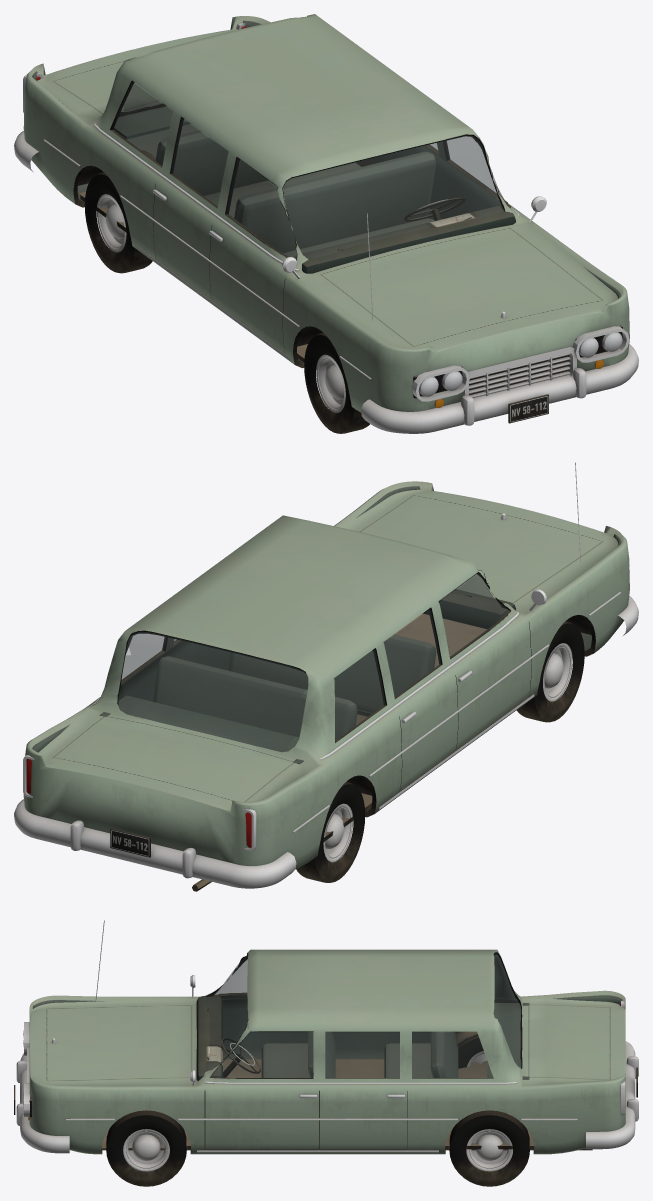
File: nuketown_car_b.glb
3 renders of one model, top to bottom at view 1: azimuth 30°, elevation 25°; view 2: azimuth 150°, elevation 25°; view 3: azimuth 270°, elevation 25°, orthographic. The views are drawn at different scales.
Parts seen in each view (by area): view 1: car_b_A, car_b_B, car_b_glass; view 2: car_b_A, car_b_B, car_b_glass; view 3: car_b_A, car_b_B, car_b_glass.
Boxes of the visible parts, x1,y1,x2,y2 form: car_b_A: (14,14,638,433); car_b_B: (32,20,620,433); car_b_glass: (114,82,508,259); car_b_A: (14,462,638,888); car_b_B: (32,486,621,891); car_b_glass: (121,573,509,751); car_b_A: (14,920,638,1154); car_b_B: (33,955,622,1186); car_b_glass: (205,953,521,1077).
Size of the model in its own units: 2 by 1.68 by 5.19.
3 materials, 2 textured.
